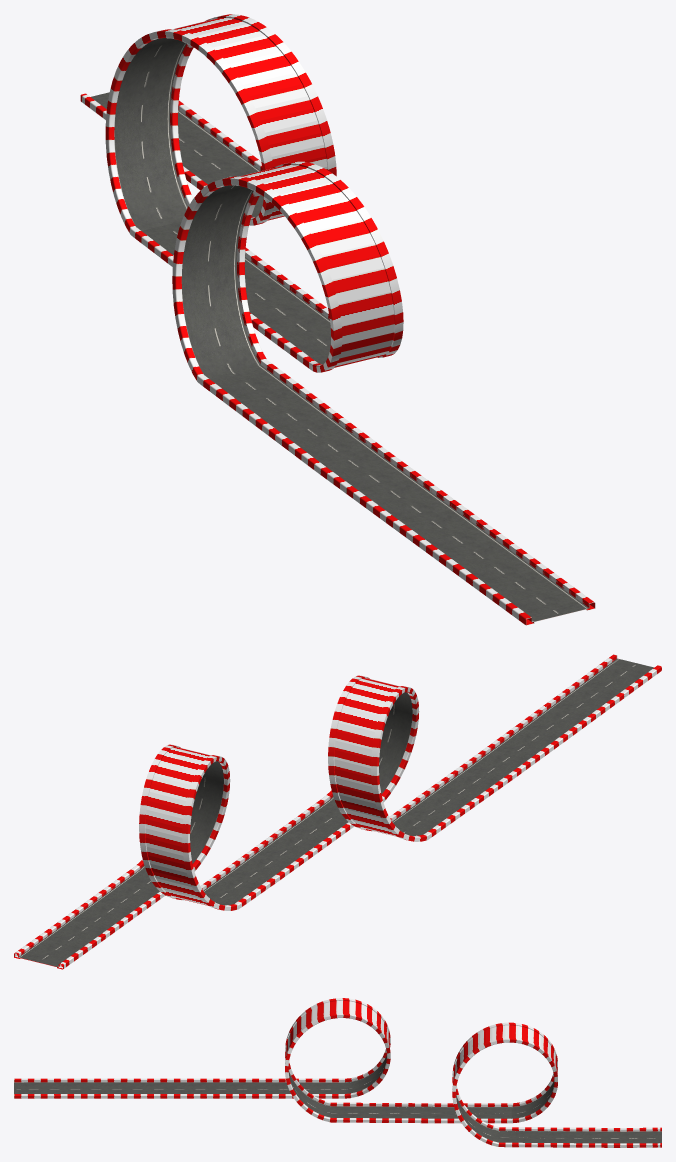
File: GT_Stunt-Track.fbx
3 views of the same model, one above another, from view 1: azimuth 30°, elevation 25°; view 2: azimuth 150°, elevation 25°; view 3: azimuth 270°, elevation 25° (orthographic). The views are drawn at different scales.
Visible parts, largest first — view 1: polySurface12; view 2: polySurface12; view 3: polySurface12.
Part boxes in pixels (x1,y1,x2,y2): polySurface12: (80, 14, 595, 625); polySurface12: (14, 654, 661, 969); polySurface12: (14, 998, 661, 1147).
Bounding box in the file's own units: 1273 × 859 × 5258.
Materials: 3 (3 with a texture image).
